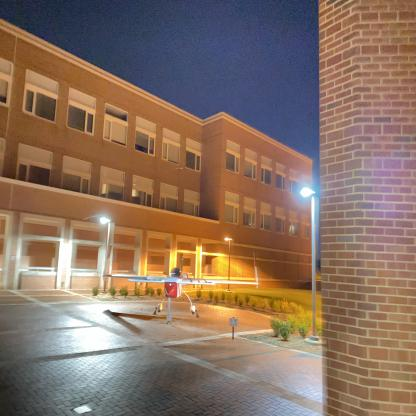eb2: (0, 28, 316, 284)
